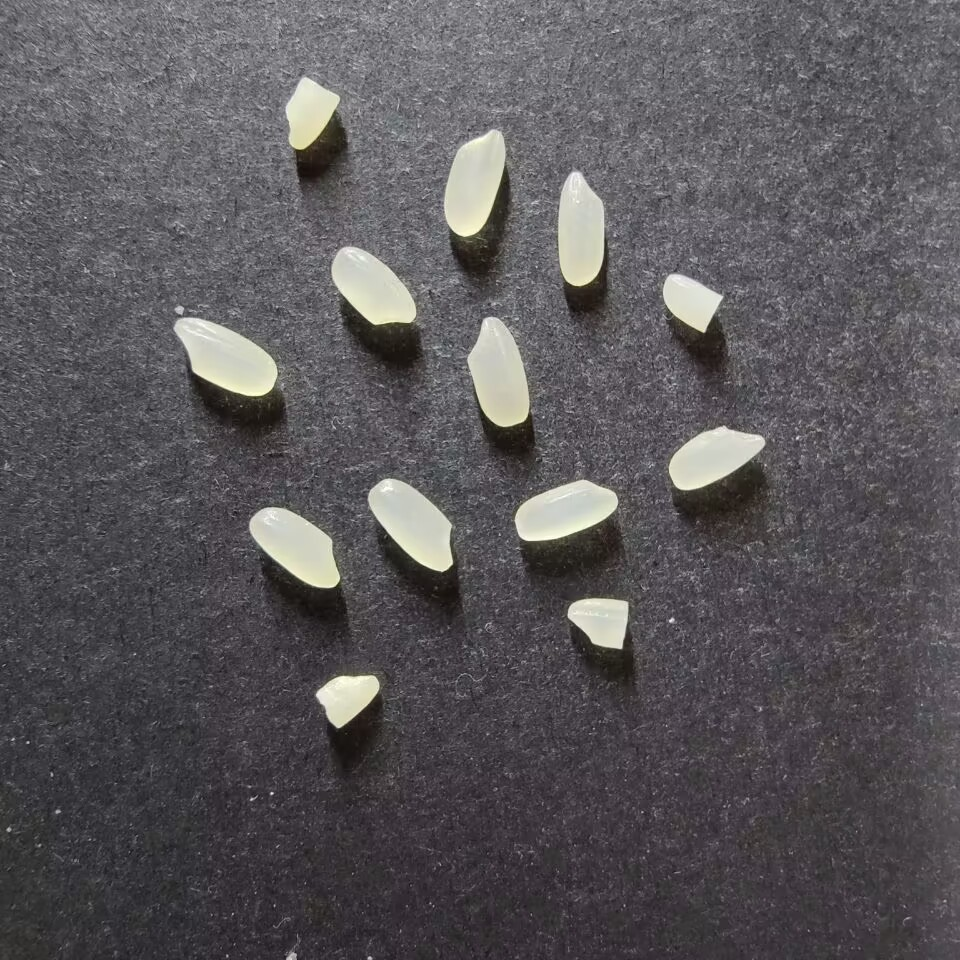broken: (285, 76, 340, 149), (662, 273, 722, 333), (315, 674, 380, 728), (566, 598, 629, 649)
rice: (172, 317, 277, 396), (367, 478, 453, 572), (248, 506, 340, 589), (466, 316, 529, 427), (330, 246, 417, 325), (443, 129, 505, 236), (514, 479, 618, 541), (668, 426, 765, 490), (556, 172, 605, 286)
